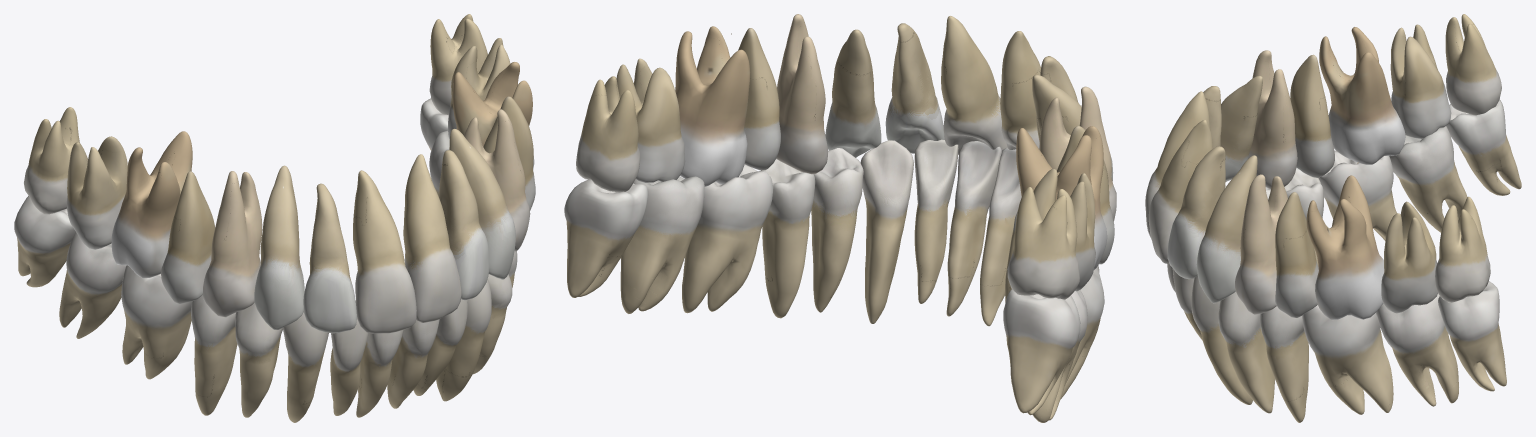
File: permanent_dentition.glb
3 renders of one model, left to right at view 1: azimuth 30°, elevation 25°; view 2: azimuth 150°, elevation 25°; view 3: azimuth 270°, elevation 25°, orthographic. The views are drawn at different scales.
Parts seen in each view (by area): view 1: ZBrushPolyMesh3D2 (×2), ZBrushPolyMesh3D1 (×2), polySurface2, polySurface8, ZBrushPolyMesh3D3 (×2), polySurface1, ZBrushPolyMesh3D5 (×2), ZBrushPolyMesh3D8, polySurface6, ZBrushPolyMesh3D4 (×2), ZBrushPolyMesh3D7 (×2), polySurface10 (+12 smaller); view 2: ZBrushPolyMesh3D7 (×2), ZBrushPolyMesh3D5, LL6seam_2:ZBrushPolyMesh3D, LL7seam_2:ZBrushPolyMesh3D, ZBrushPolyMesh3D, LL8seam_2:ZBrushPolyMesh3D, ZBrushPolyMesh3D2 (×2), LL3seam_2:ZBrushPolyMesh3D, polySurface12, ZBrushPolyMesh3D1 (×2), ZBrushPolyMesh3D3, polySurface1 (+13 smaller); view 3: ZBrushPolyMesh3D1 (×2), ZBrushPolyMesh3D2 (×2), ZBrushPolyMesh3D5, polySurface8, LL6seam_2:ZBrushPolyMesh3D, LL7seam_2:ZBrushPolyMesh3D, ZBrushPolyMesh3D4 (×2), polySurface10, ZBrushPolyMesh3D3, polySurface9, LL8seam_2:ZBrushPolyMesh3D, ZBrushPolyMesh3D8 (+12 smaller).
Part boxes in pixels (box(x1,y1,x2,y2)): ZBrushPolyMesh3D2 (×2): box(121, 128, 515, 379); ZBrushPolyMesh3D1 (×2): box(59, 150, 489, 338); polySurface2: box(353, 170, 416, 333); polySurface8: box(111, 131, 192, 278); ZBrushPolyMesh3D3 (×2): box(235, 109, 530, 417); polySurface1: box(403, 154, 461, 322); ZBrushPolyMesh3D5 (×2): box(283, 62, 534, 422); ZBrushPolyMesh3D8: box(202, 171, 262, 317); polySurface6: box(254, 165, 304, 329); ZBrushPolyMesh3D4 (×2): box(191, 96, 535, 415); ZBrushPolyMesh3D7 (×2): box(356, 14, 487, 417); polySurface10: box(66, 136, 127, 249); ZBrushPolyMesh3D7 (×2): box(576, 76, 1021, 326); ZBrushPolyMesh3D5: box(675, 26, 750, 186); LL6seam_2:ZBrushPolyMesh3D: box(682, 164, 772, 313); LL7seam_2:ZBrushPolyMesh3D: box(620, 176, 704, 313); ZBrushPolyMesh3D: box(1003, 289, 1080, 415); LL8seam_2:ZBrushPolyMesh3D: box(564, 179, 648, 297); ZBrushPolyMesh3D2 (×2): box(825, 29, 1104, 399); LL3seam_2:ZBrushPolyMesh3D: box(860, 140, 913, 323); polySurface12: box(1007, 187, 1079, 299); ZBrushPolyMesh3D1 (×2): box(885, 23, 1087, 422); ZBrushPolyMesh3D3: box(776, 14, 827, 174); polySurface1: box(941, 16, 1007, 154); ZBrushPolyMesh3D1 (×2): box(1167, 126, 1467, 279); ZBrushPolyMesh3D2 (×2): box(1196, 150, 1396, 303); ZBrushPolyMesh3D5: box(1306, 175, 1384, 320); polySurface8: box(1319, 27, 1405, 164); LL6seam_2:ZBrushPolyMesh3D: box(1302, 305, 1393, 414); LL7seam_2:ZBrushPolyMesh3D: box(1376, 293, 1458, 406); ZBrushPolyMesh3D4 (×2): box(1275, 168, 1323, 317); polySurface10: box(1390, 24, 1451, 138); ZBrushPolyMesh3D3: box(1235, 174, 1287, 314); polySurface9: box(1381, 201, 1437, 313); LL8seam_2:ZBrushPolyMesh3D: box(1438, 281, 1506, 391); ZBrushPolyMesh3D8: box(1248, 50, 1297, 189).
Size of the model in its own units: 2.59 by 1.54 by 1.91.
16 materials, 16 textured.
